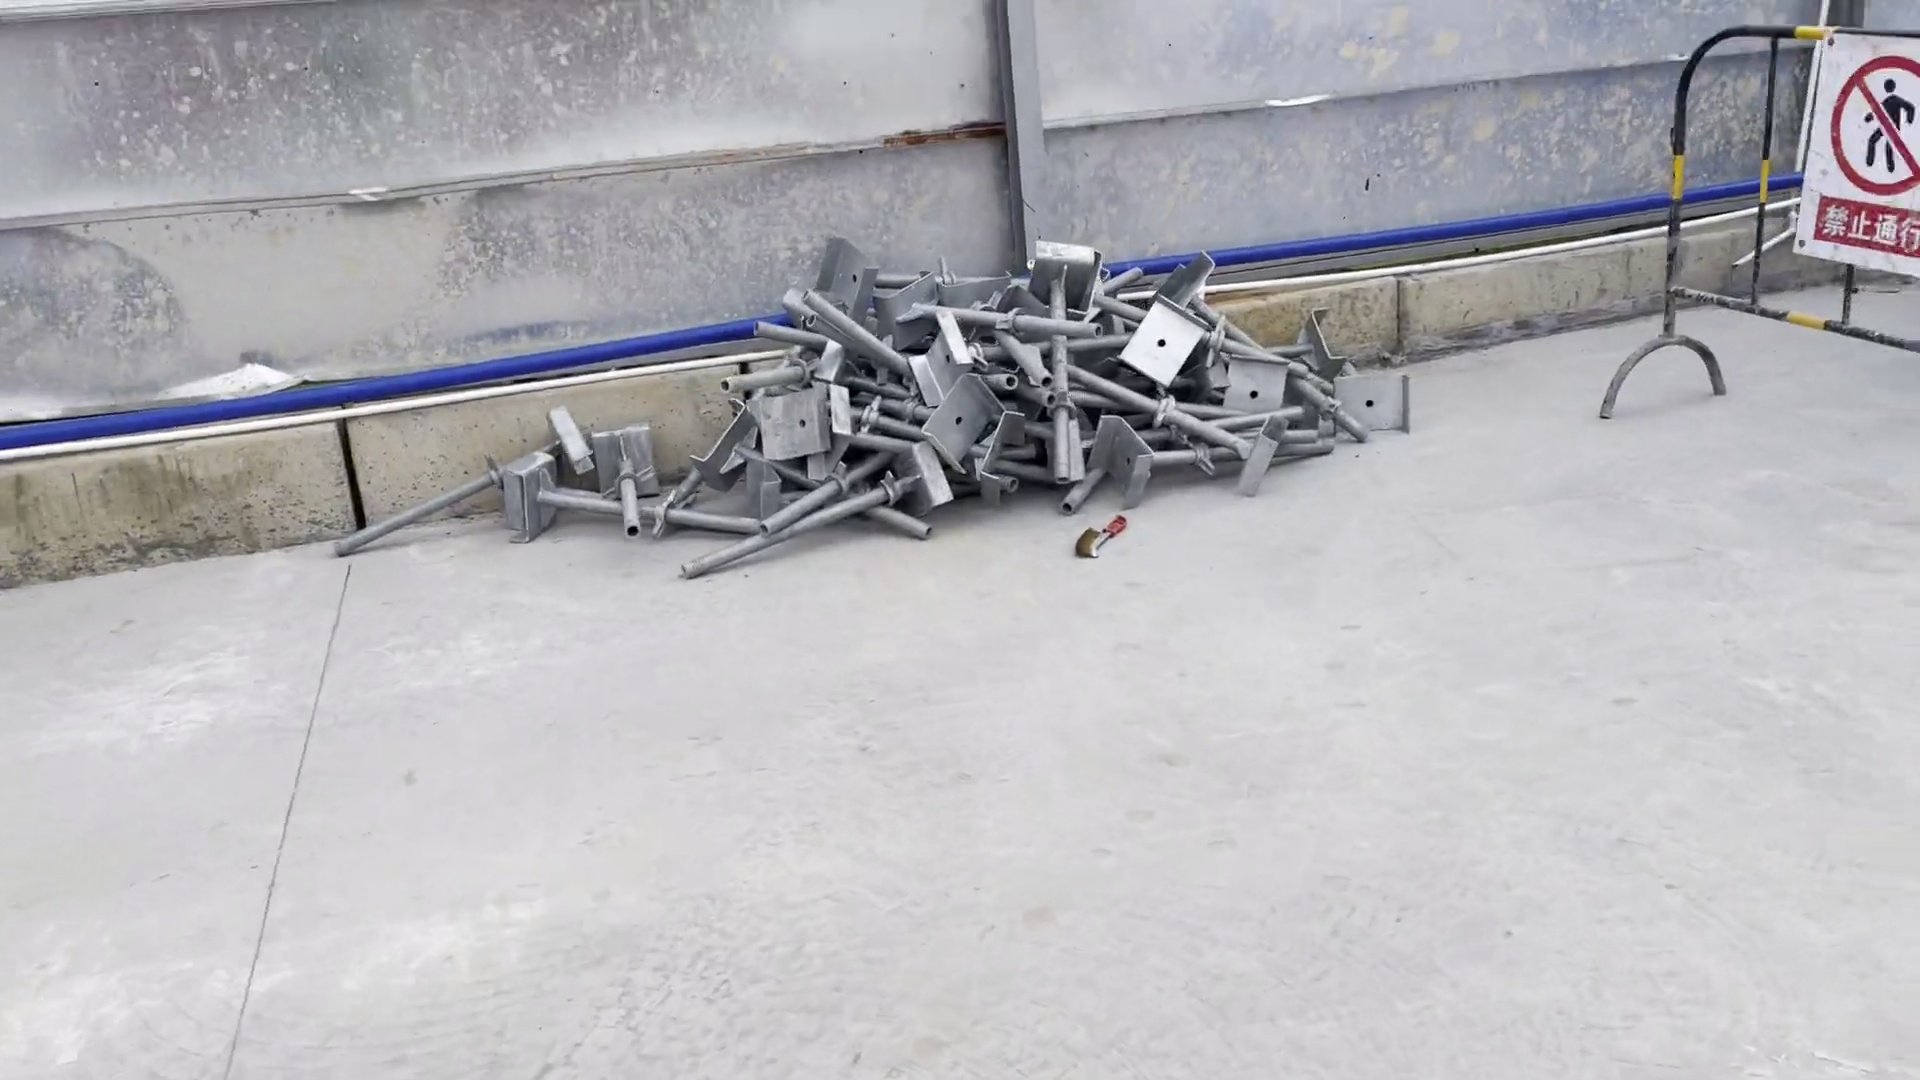fence: (1642, 22, 1920, 425)
slogan: (1787, 26, 1920, 294)
